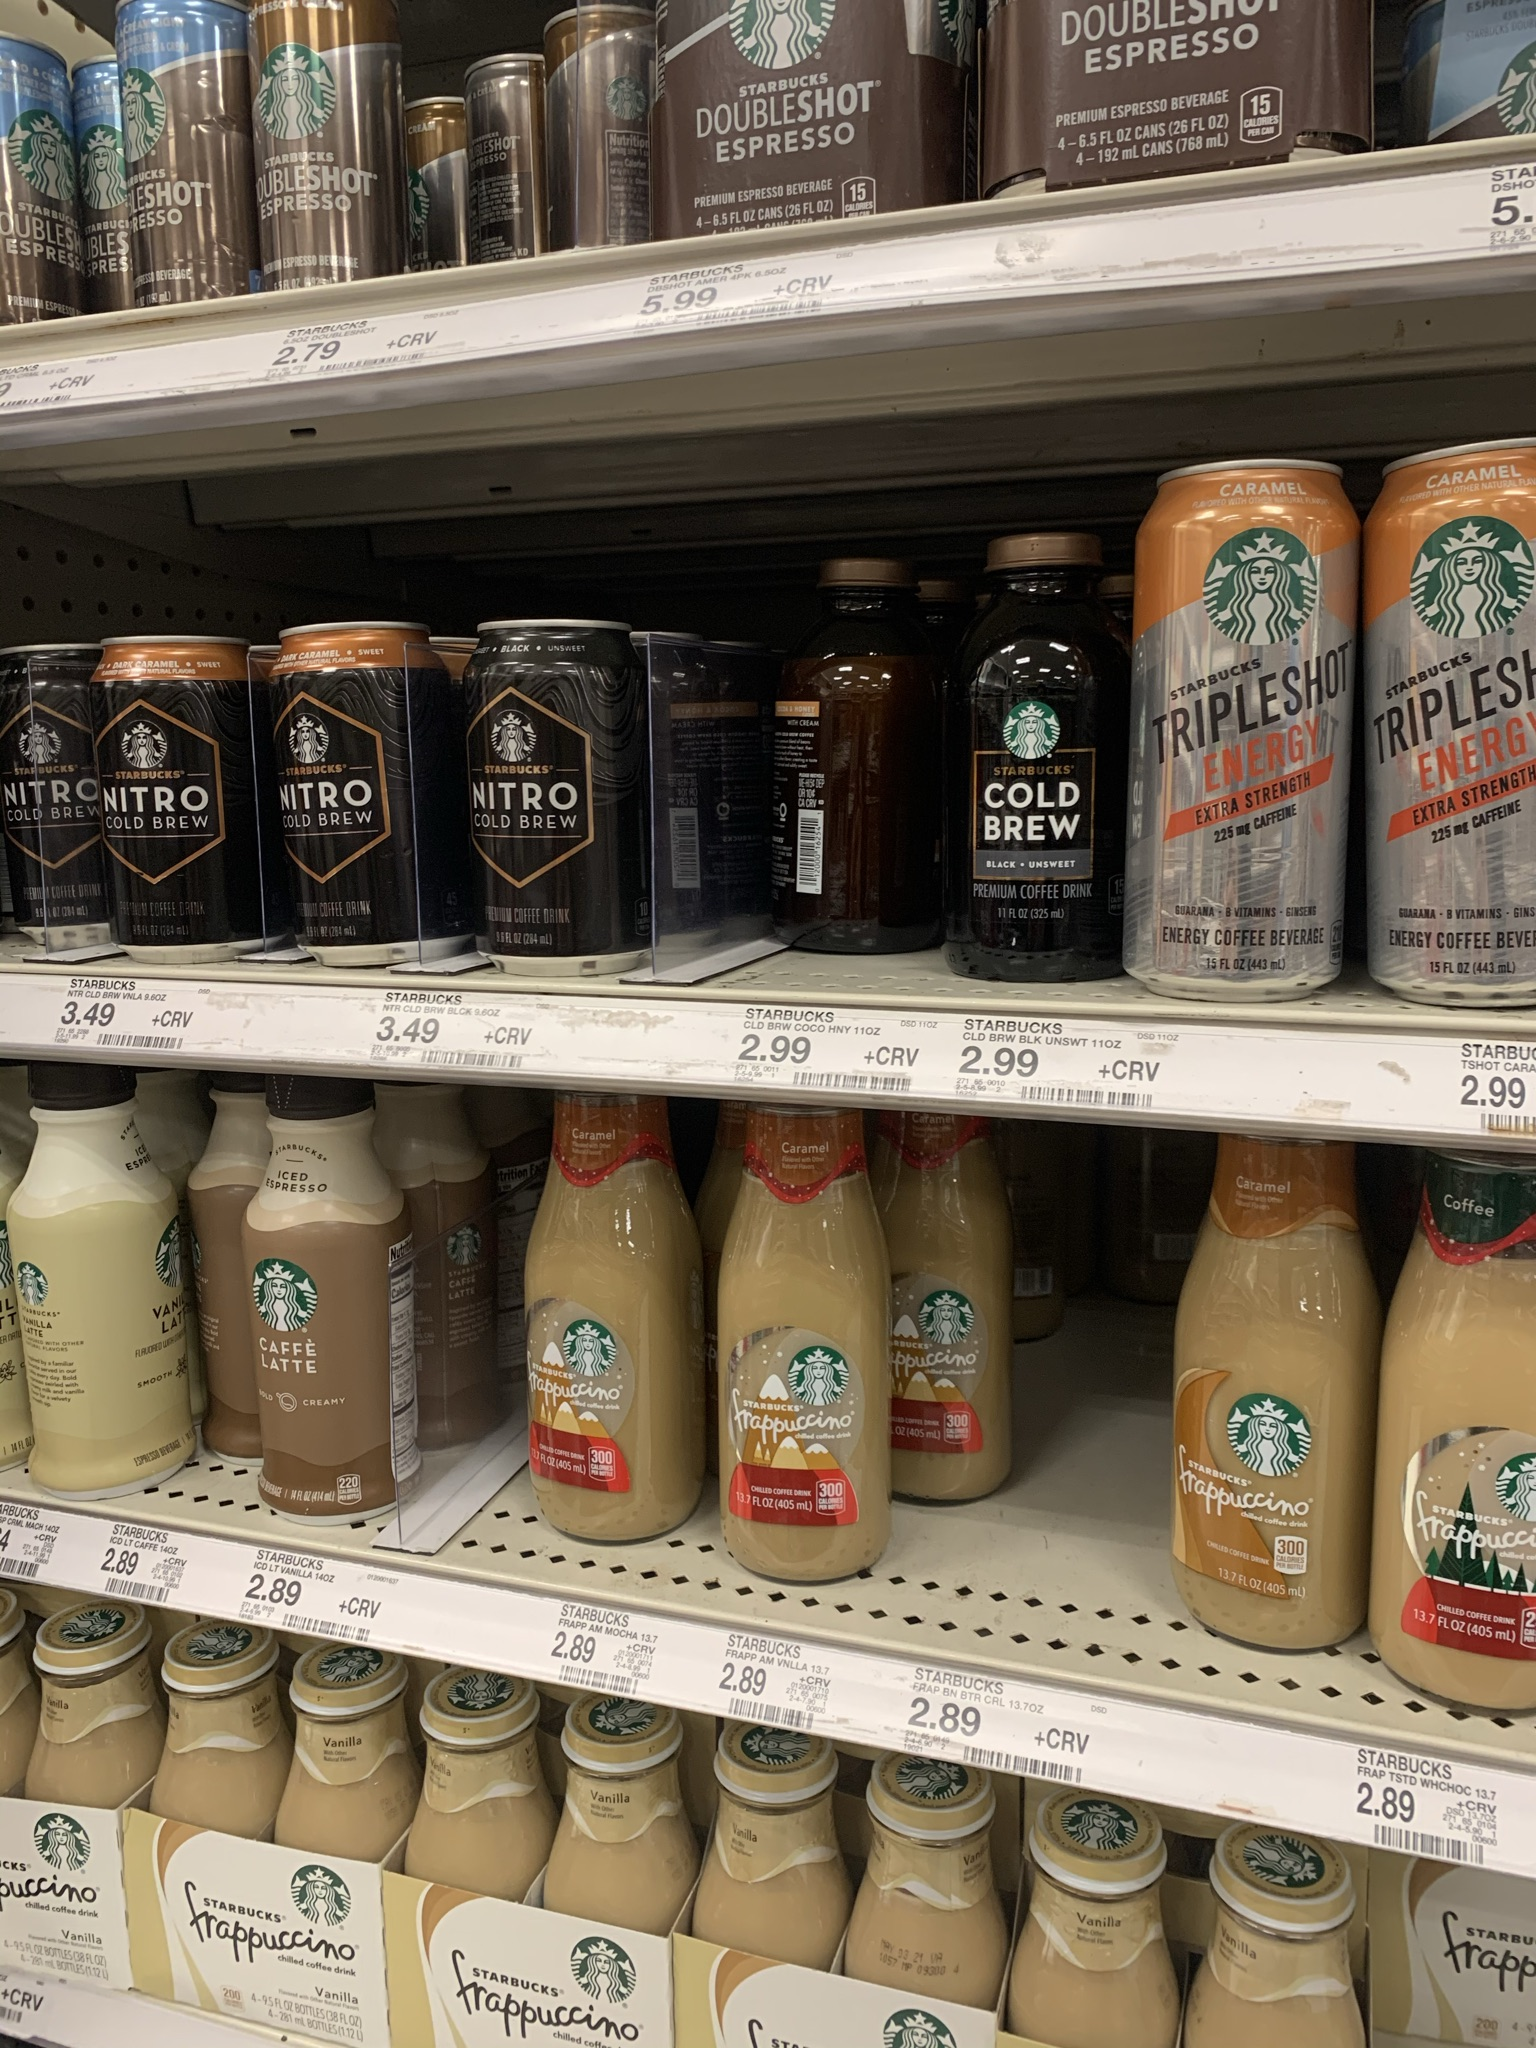can: (1142, 474, 1333, 987), (1373, 468, 1536, 1000), (478, 626, 618, 971), (278, 635, 407, 951), (248, 2, 386, 285), (103, 647, 232, 947), (118, 10, 224, 300), (466, 60, 549, 260)
